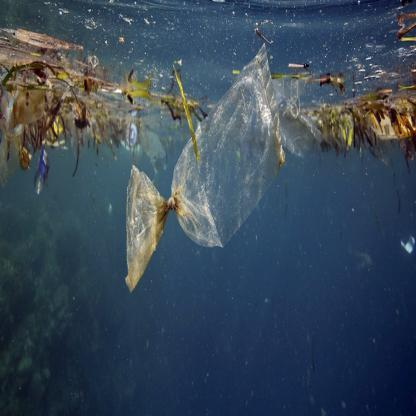Rác: (120, 37, 286, 277), (124, 121, 167, 162), (278, 102, 316, 148), (34, 150, 54, 192)
